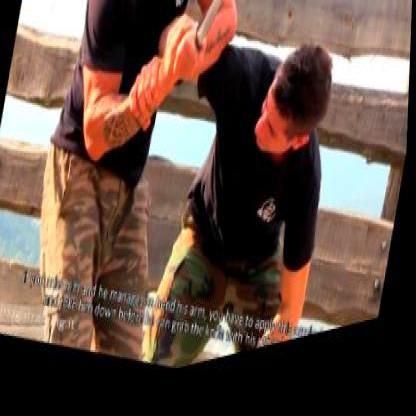knife: (177, 0, 230, 91)
